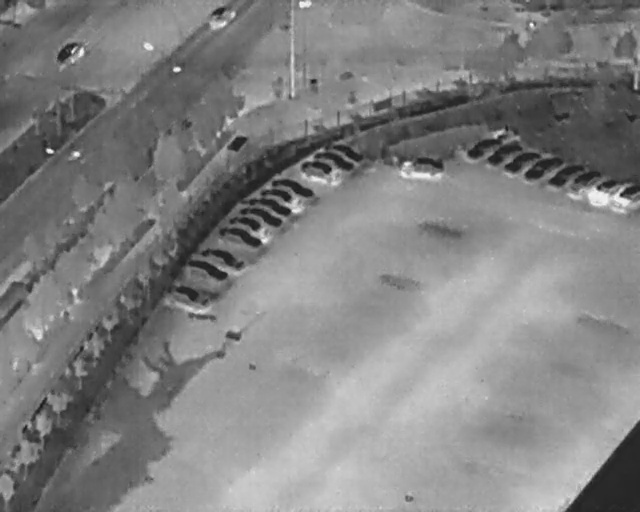Car: (165, 278, 213, 314), (242, 189, 295, 220), (521, 149, 564, 186), (183, 251, 231, 284), (198, 240, 246, 273), (216, 220, 264, 253), (544, 156, 587, 192), (51, 33, 90, 72), (236, 200, 284, 230), (586, 171, 624, 208), (269, 172, 317, 201), (563, 164, 603, 198), (311, 146, 357, 175), (202, 0, 238, 36), (502, 144, 541, 177), (486, 136, 524, 169), (466, 132, 505, 161), (401, 157, 444, 182), (227, 208, 265, 235), (327, 138, 365, 163), (298, 156, 333, 183), (258, 182, 293, 207), (613, 183, 639, 215)
